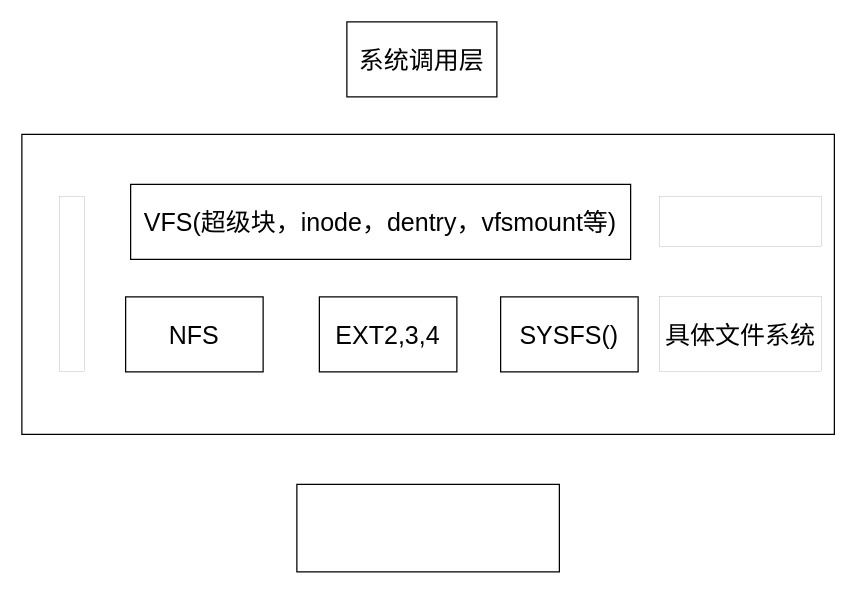
The diagram is 856 pixels wide and 594 high, and some of its shapes have lost their labels. Here are the shapes that lost their labels. From the top down, the box of each, then its label:
(659, 196, 821, 246): 虚拟文件系统
(59, 196, 84, 371): 文件系统
(296, 483, 559, 572): 块I/O子系统
